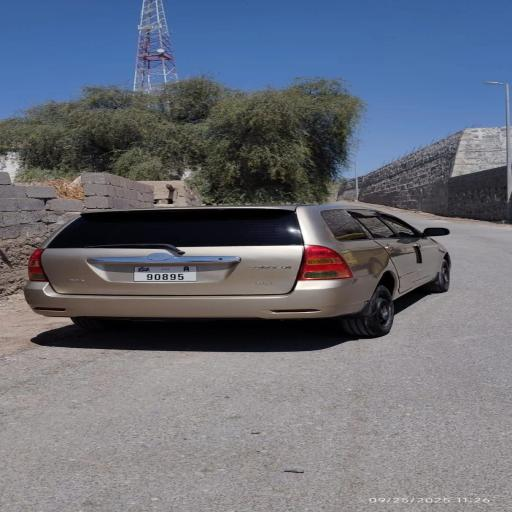license-plates: (133, 266, 197, 282)
